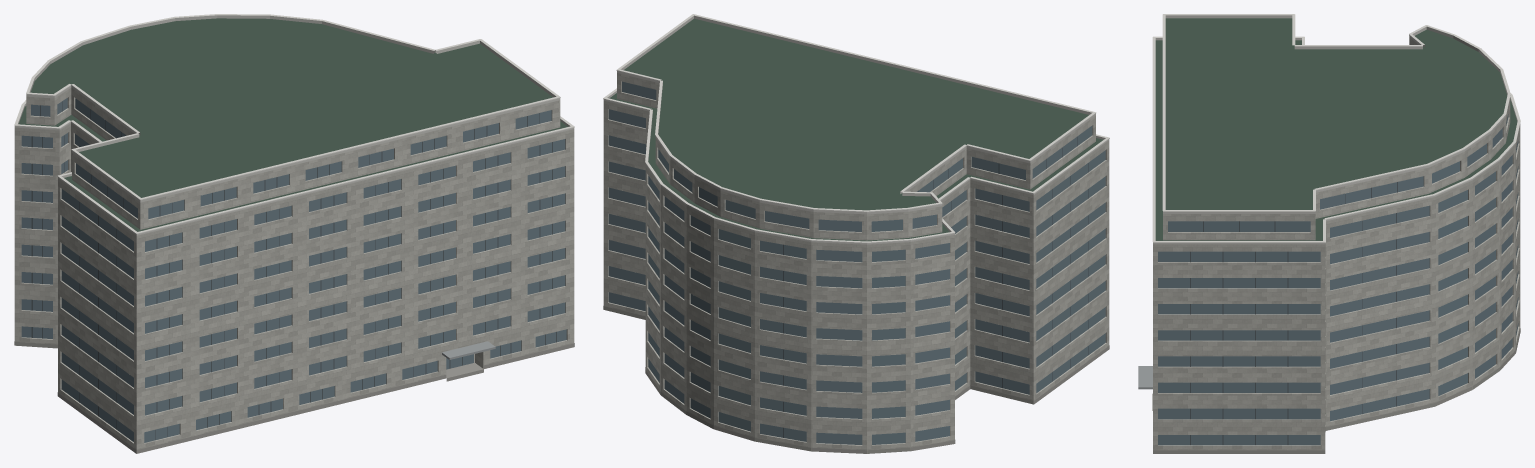
The picture shows the model from 3 angles, left to right: view 1: azimuth 30°, elevation 25°; view 2: azimuth 150°, elevation 25°; view 3: azimuth 270°, elevation 25°; orthographic projection. The views are drawn at different scales.
Parts seen in each view (by area): view 1: samsungEdu__wall, samsungEdu__roof, samsungEdu__glass, samsungEdu__trim, samsungEdu__parapet, samsungEdu__base, samsungEdu__frame; view 2: samsungEdu__wall, samsungEdu__roof, samsungEdu__glass, samsungEdu__trim, samsungEdu__parapet, samsungEdu__base; view 3: samsungEdu__wall, samsungEdu__roof, samsungEdu__glass, samsungEdu__trim, samsungEdu__parapet, samsungEdu__base, samsungEdu__frame.
Part boxes in pixels (x1=…): samsungEdu__wall: x1=14, y1=87, x2=574, y2=453; samsungEdu__roof: x1=18, y1=18, x2=567, y2=231; samsungEdu__glass: x1=21, y1=98, x2=566, y2=442; samsungEdu__trim: x1=14, y1=14, x2=574, y2=234; samsungEdu__parapet: x1=14, y1=15, x2=574, y2=235; samsungEdu__base: x1=14, y1=341, x2=574, y2=453; samsungEdu__frame: x1=31, y1=101, x2=556, y2=439; samsungEdu__wall: x1=603, y1=73, x2=1109, y2=453; samsungEdu__roof: x1=609, y1=18, x2=1103, y2=241; samsungEdu__glass: x1=608, y1=81, x2=1105, y2=444; samsungEdu__trim: x1=603, y1=14, x2=1109, y2=243; samsungEdu__parapet: x1=603, y1=15, x2=1109, y2=244; samsungEdu__base: x1=603, y1=306, x2=1109, y2=453; samsungEdu__wall: x1=1153, y1=37, x2=1520, y2=450; samsungEdu__roof: x1=1155, y1=18, x2=1517, y2=413; samsungEdu__glass: x1=1158, y1=114, x2=1518, y2=445; samsungEdu__trim: x1=1152, y1=14, x2=1520, y2=242; samsungEdu__parapet: x1=1153, y1=15, x2=1517, y2=244; samsungEdu__base: x1=1152, y1=328, x2=1520, y2=453; samsungEdu__frame: x1=1190, y1=182, x2=1397, y2=445.
Size of the model in its own units: 58.96 by 32.3 by 46.34.
Materials: 9 (1 with a texture image).
